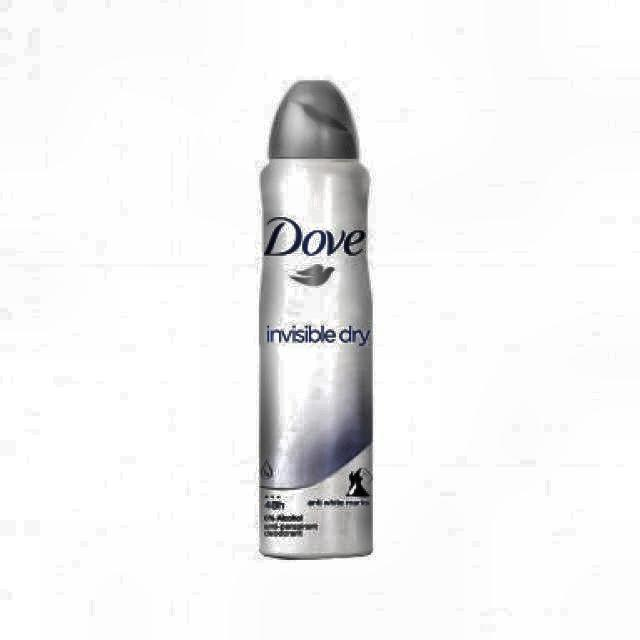metal: (256, 79, 375, 563)
